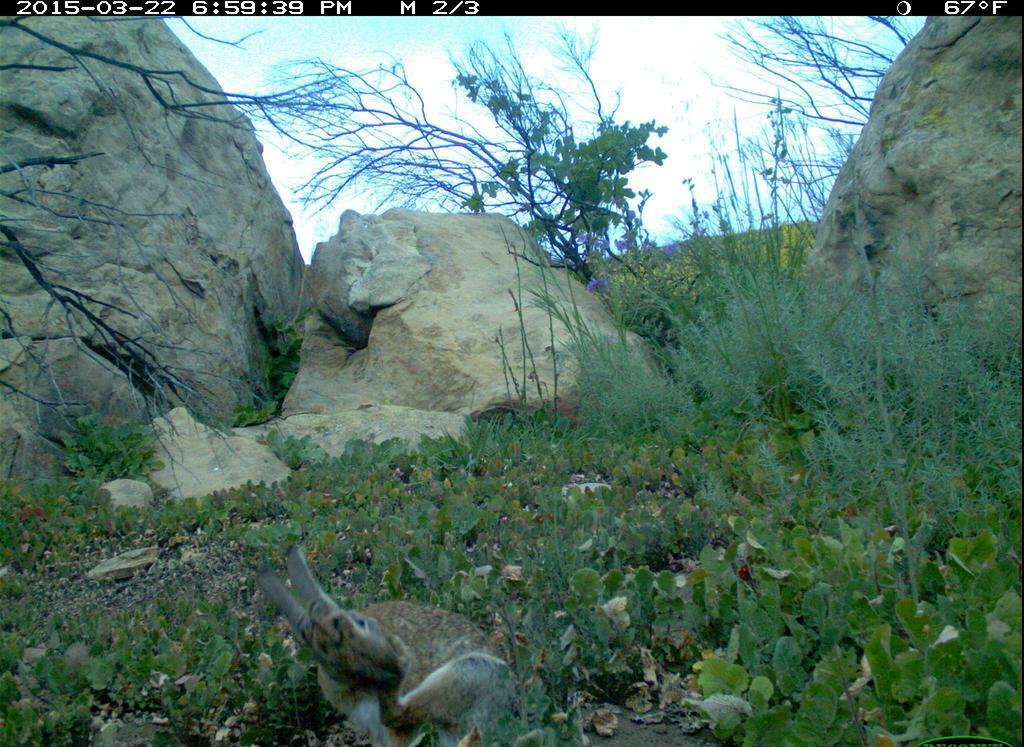rabbit: (255, 542, 523, 745)
